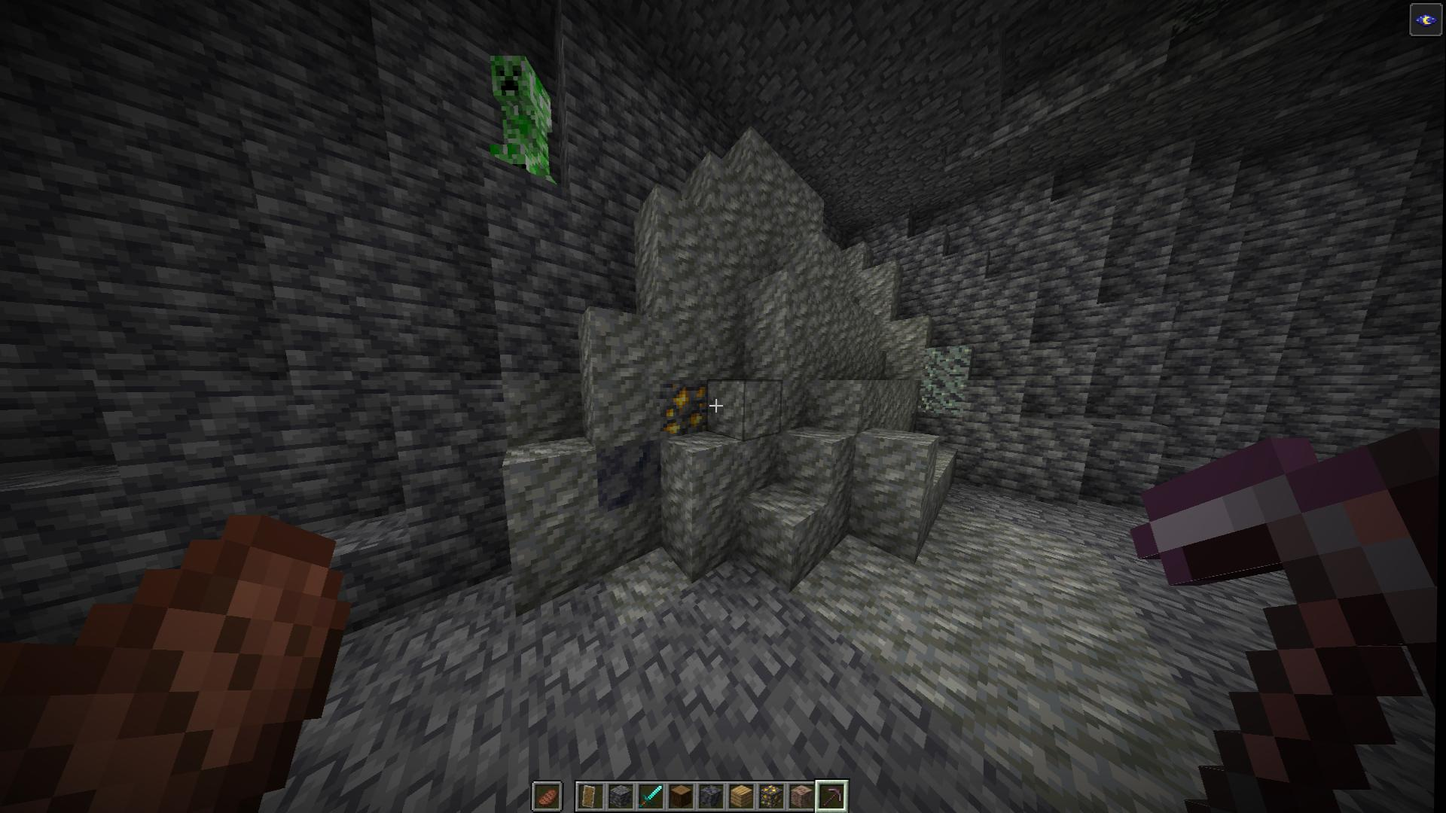gold ore: (658, 379, 713, 438)
